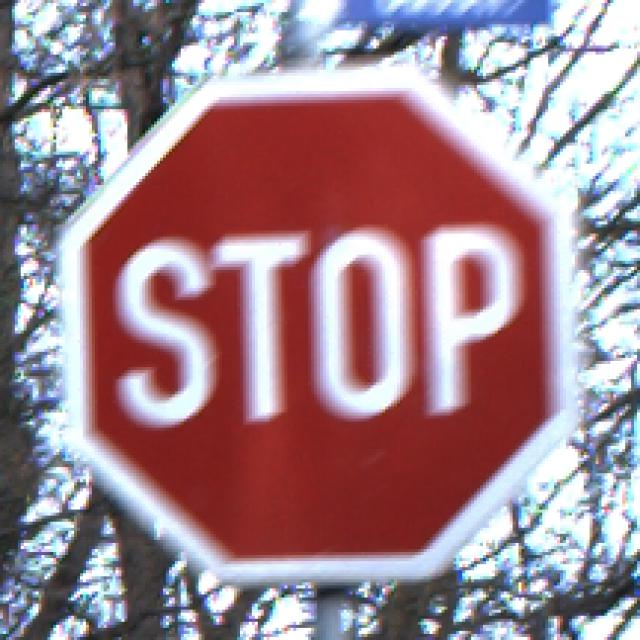STOP: (54, 56, 588, 587)
